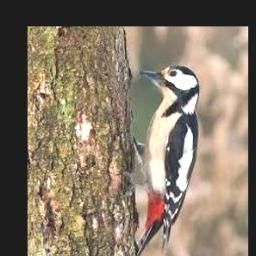Woodpecker: (118, 64, 199, 256)
